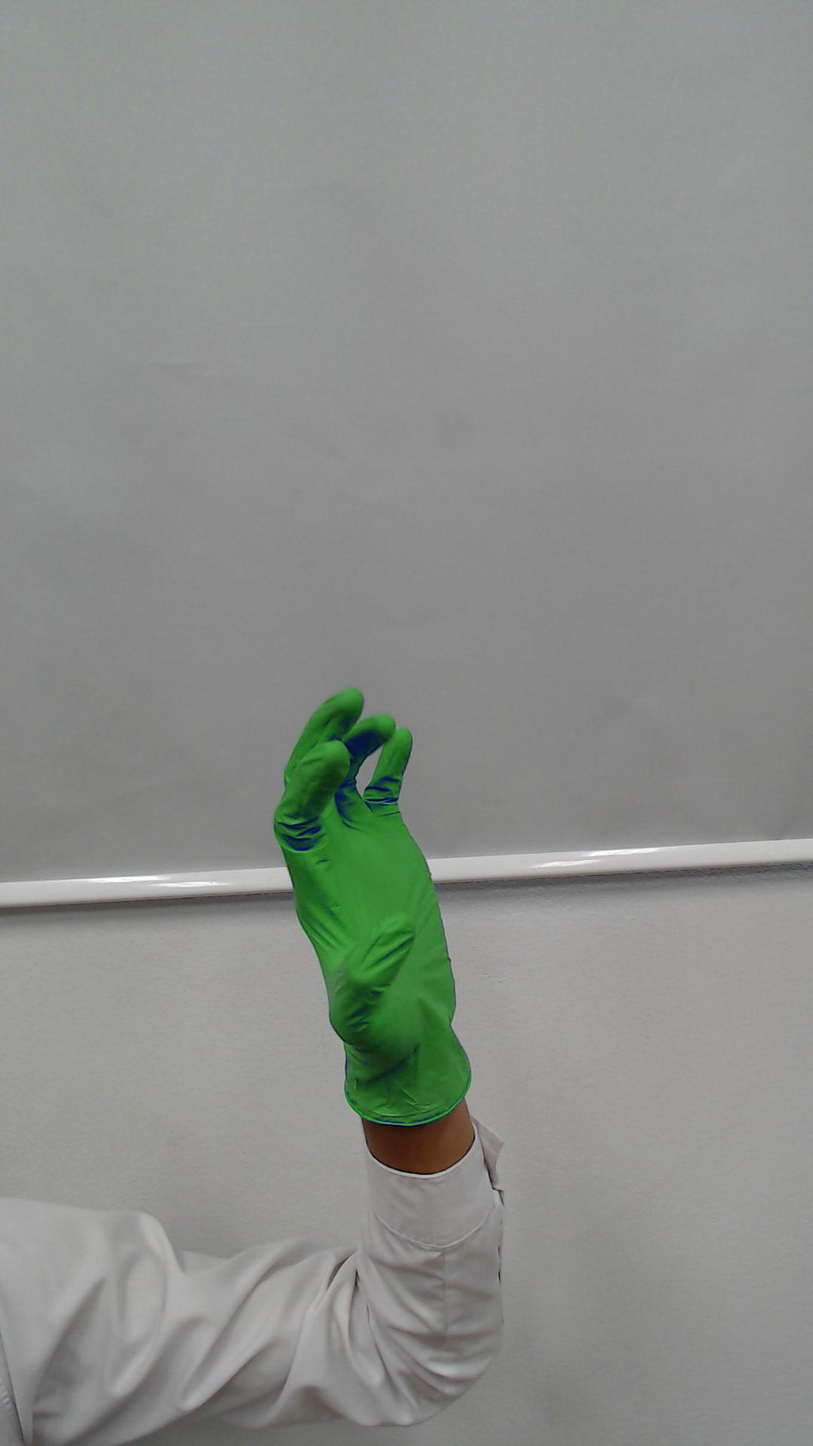gloves: (269, 667, 471, 1084)
